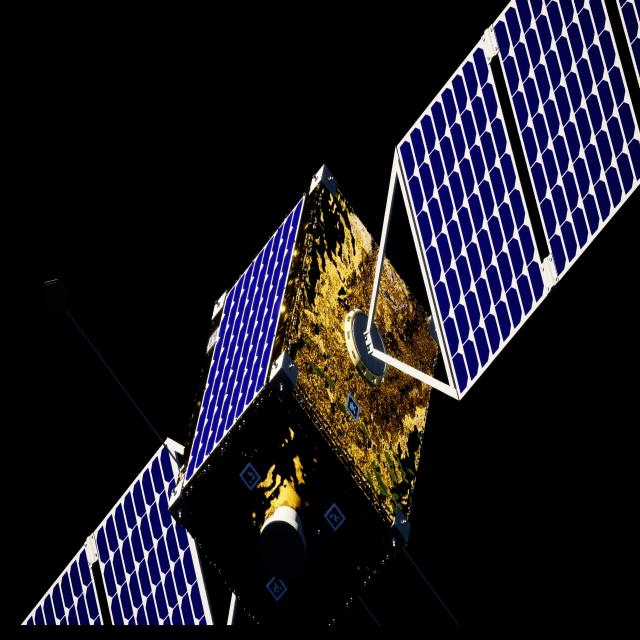medium_debris: (24, 0, 640, 640)
